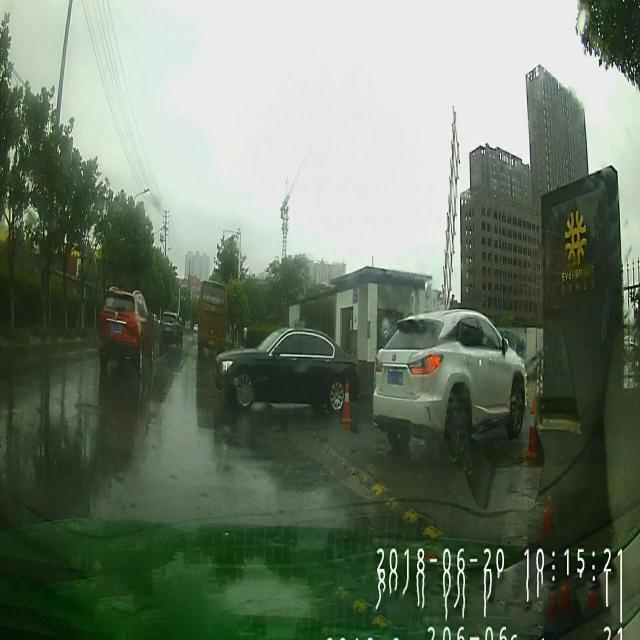car: (370, 300, 528, 458), (212, 326, 366, 414), (94, 287, 155, 373), (158, 310, 184, 350)
